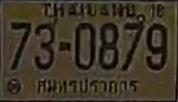0: (74, 22, 95, 69)
3: (34, 23, 54, 68)
7: (121, 20, 143, 70), (10, 20, 30, 68)
8: (98, 22, 118, 69)
9: (145, 22, 166, 69)
SPK: (32, 73, 144, 98)
